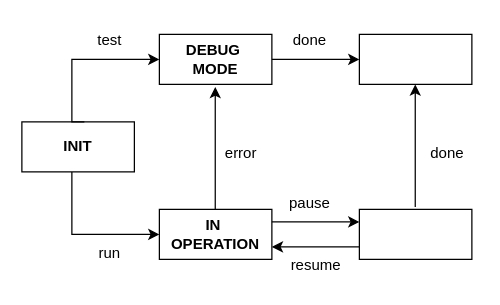
Some shapes in this 500 by 305 pixel diagram are drawn without their labels. The shapes that lost their labels are listed below. From the top down, each one's centre as x and y in pixels, then its label:
At (x=415, y=58): "OFF".
At (x=415, y=233): "ON HOLD".
